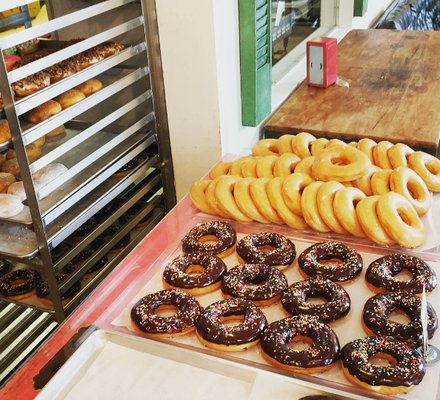salad: (340, 336, 425, 397), (260, 315, 341, 369), (356, 192, 426, 250), (361, 291, 426, 348), (195, 299, 268, 349), (130, 289, 202, 336), (309, 140, 370, 191), (221, 263, 290, 308), (371, 167, 431, 218), (365, 252, 436, 295), (281, 279, 351, 322), (162, 252, 228, 297), (314, 183, 367, 238), (298, 241, 364, 283), (266, 174, 312, 229), (236, 232, 296, 269), (181, 220, 236, 258), (213, 174, 252, 222), (302, 180, 337, 233), (405, 150, 440, 194), (248, 176, 278, 224), (271, 153, 302, 178), (230, 156, 259, 179), (209, 162, 232, 181)
